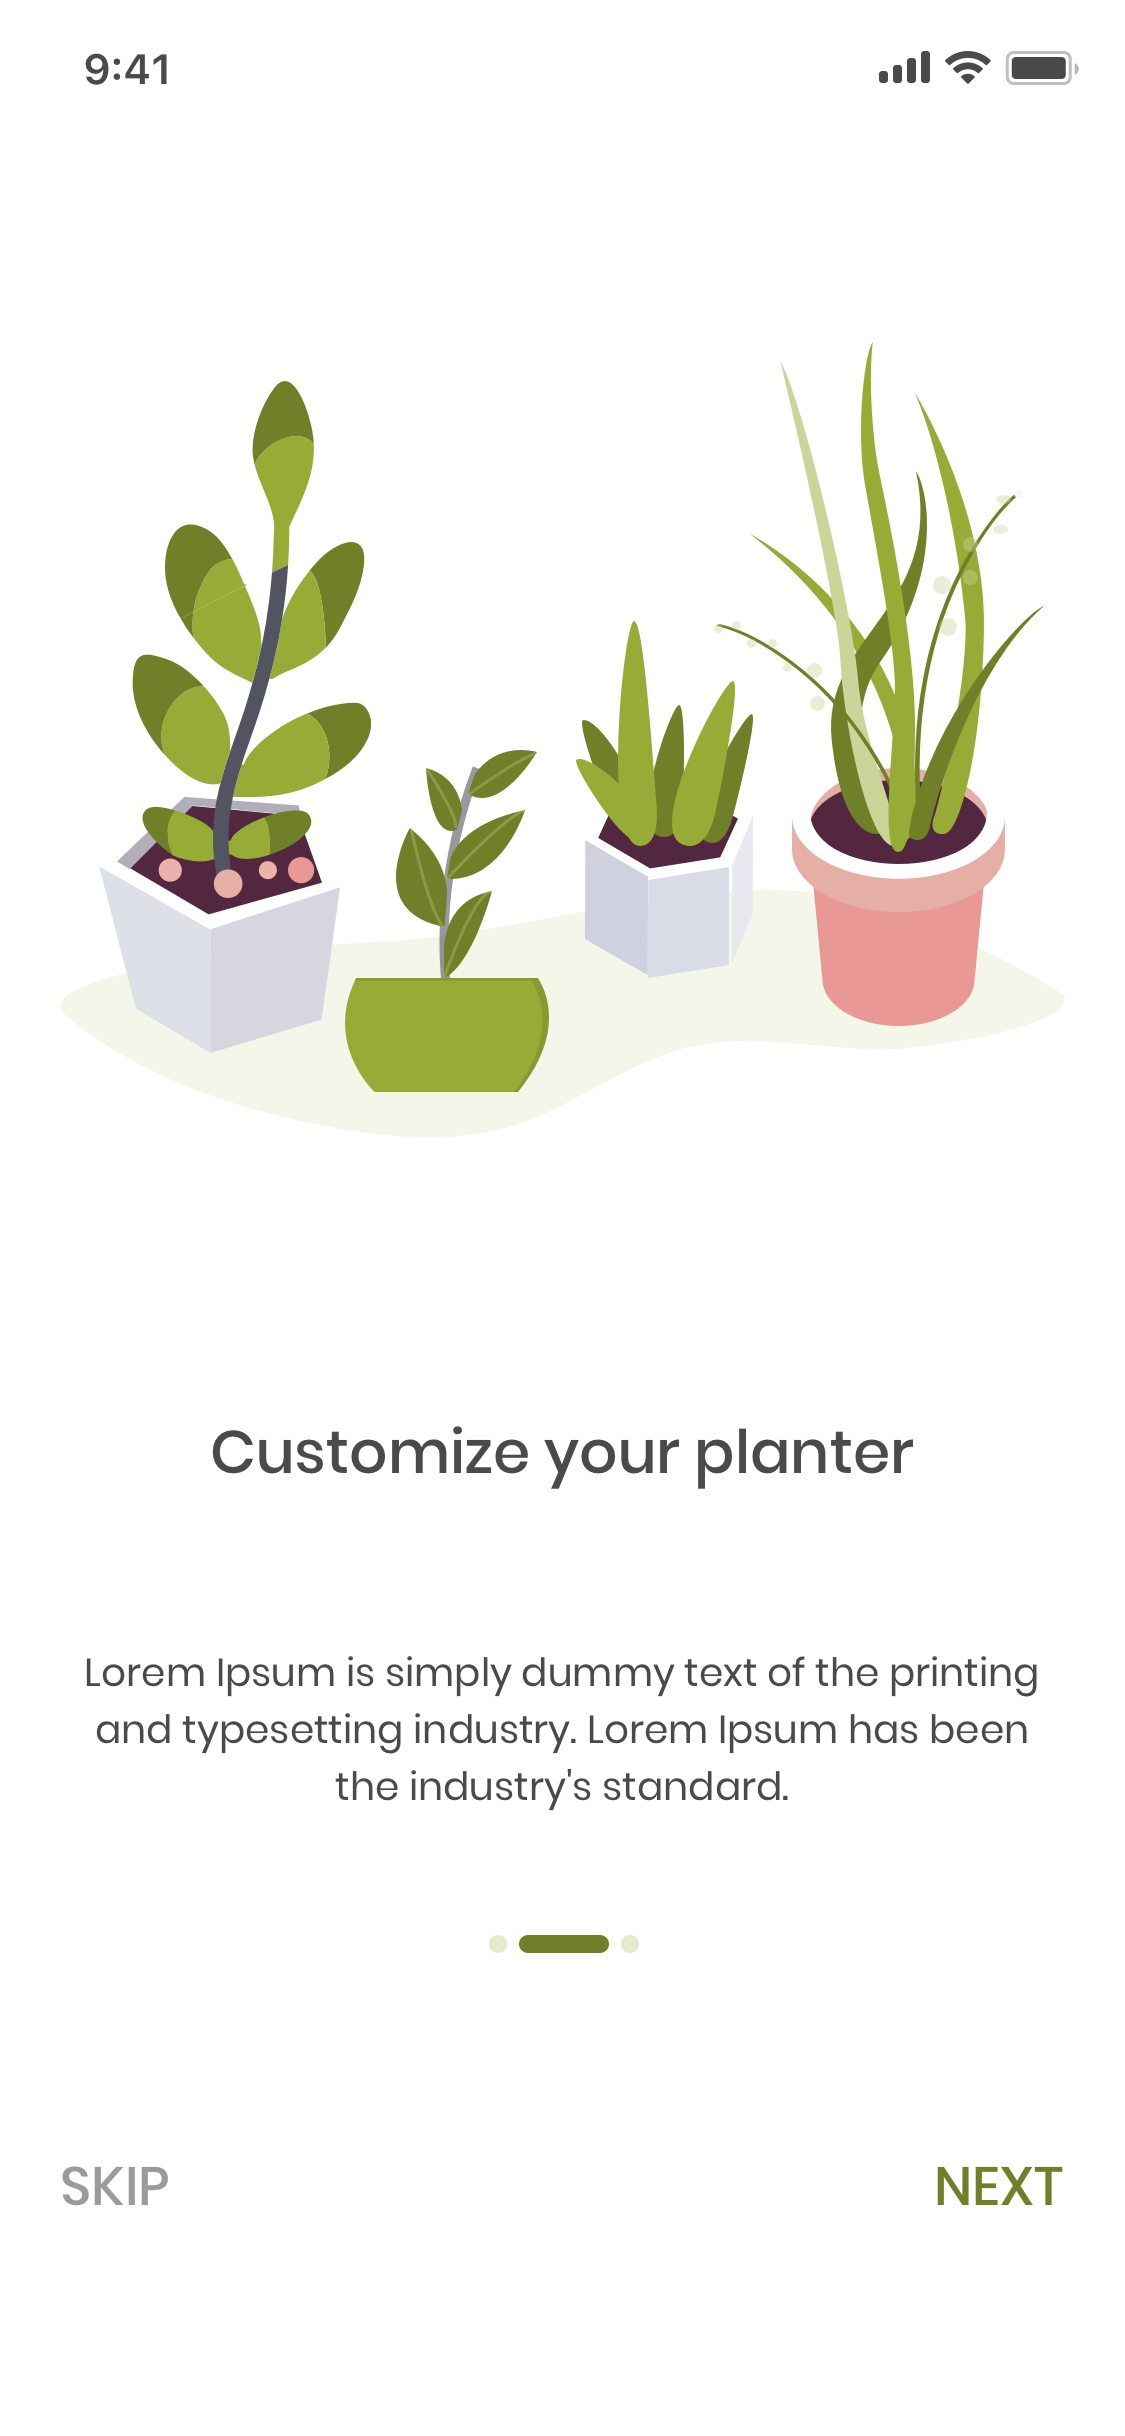Image: (61, 340, 1069, 1140)
PageIndicator: (488, 1933, 642, 1954)
Text: (87, 1655, 1038, 1811), (211, 1425, 915, 1491), (937, 2166, 1064, 2208), (62, 2166, 169, 2208)
UpperTaskBar: (85, 50, 1080, 89)
